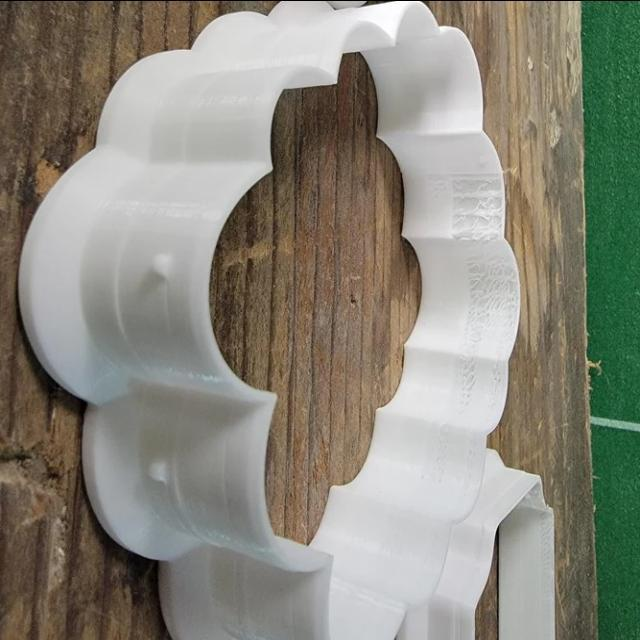zits: (144, 453, 174, 486), (146, 252, 176, 280)
